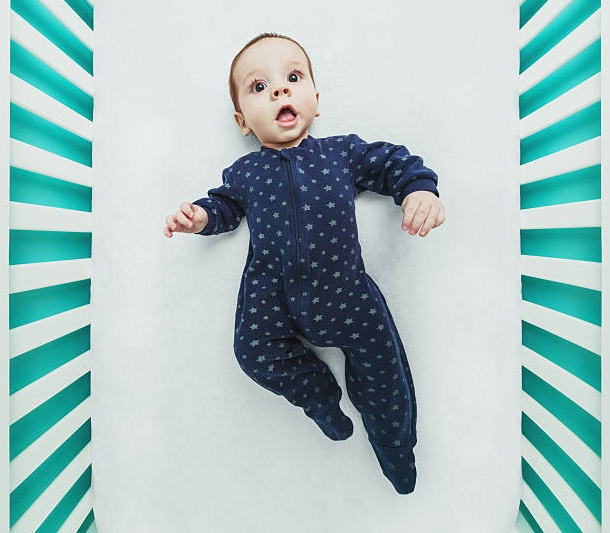baby: (165, 33, 444, 493)
crib: (509, 0, 609, 532)
